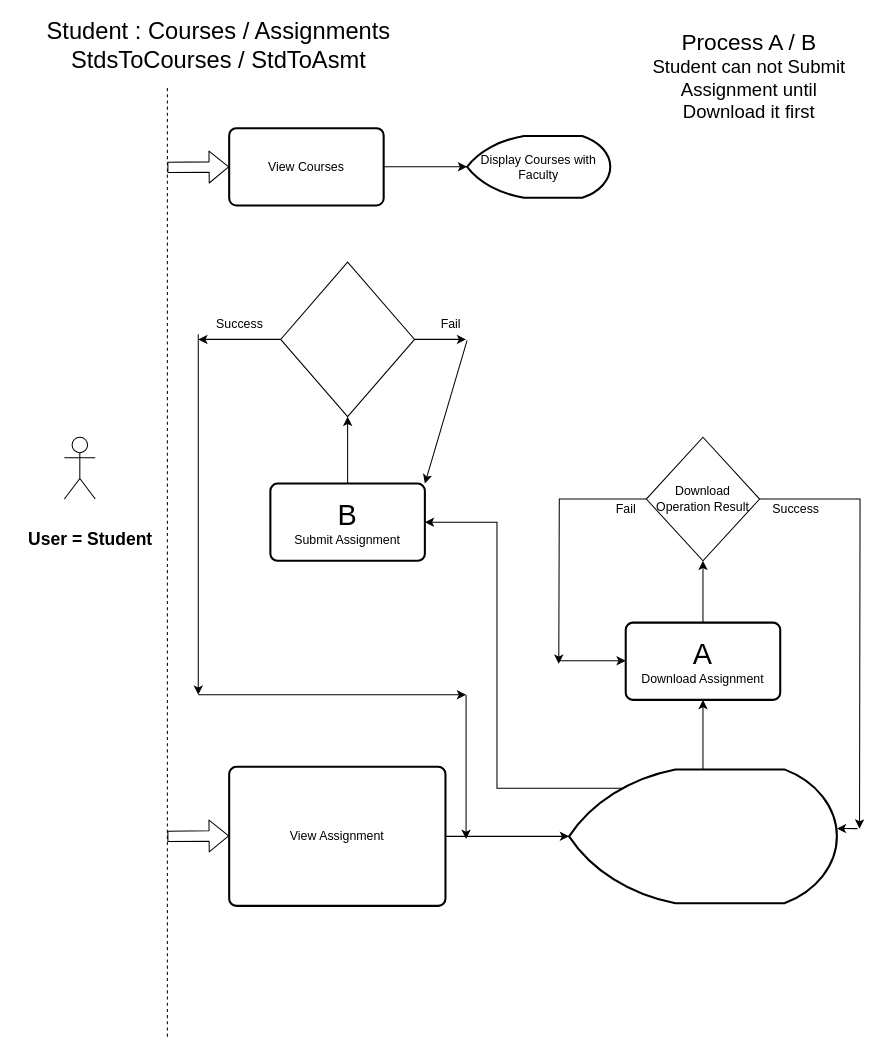
Image size: 886x1056. Some labels were removed from this diagram. Here are the shapes that lost their labels. From the top down, the centre of each, then its label:
At (347,339): "Submit Operation Result".
At (79,467): "Actor".
At (702,836): "Display Assignments only belong to Courses taken by this Student".
